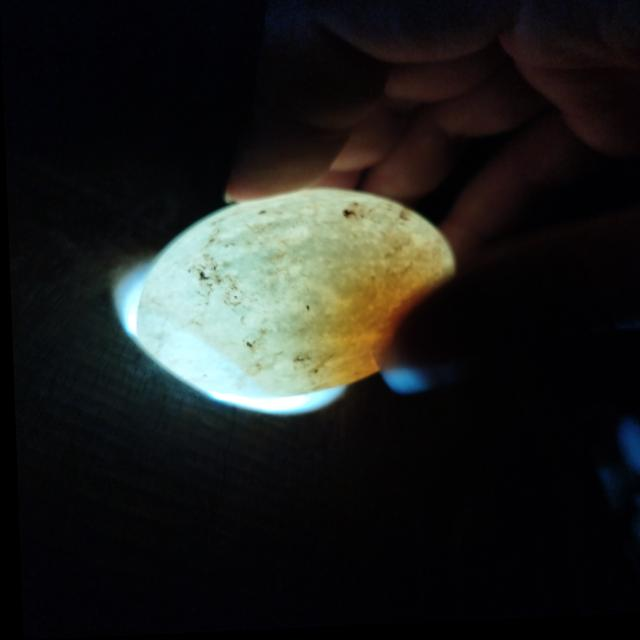Camara de Ar: (135, 312, 274, 399)
Gema Quebrada: (338, 272, 446, 385)
